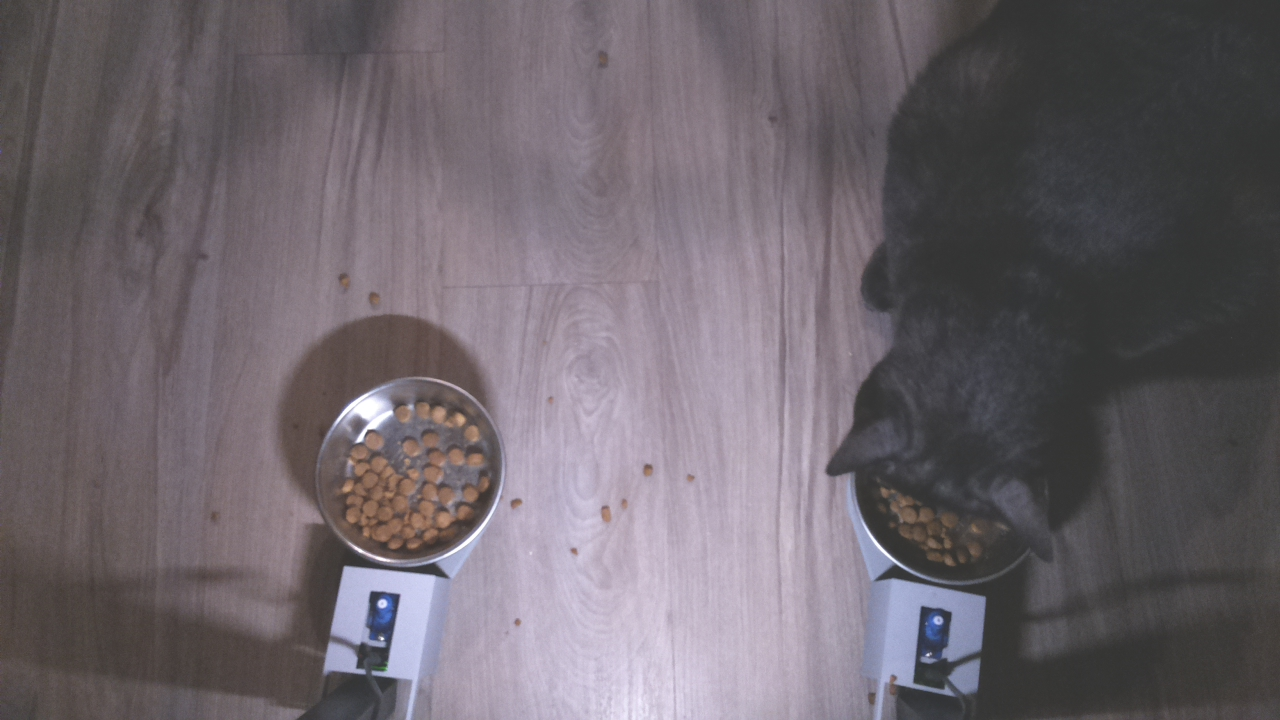open_bowl: (312, 375, 507, 569)
saki_eating: (815, 343, 1071, 601)
